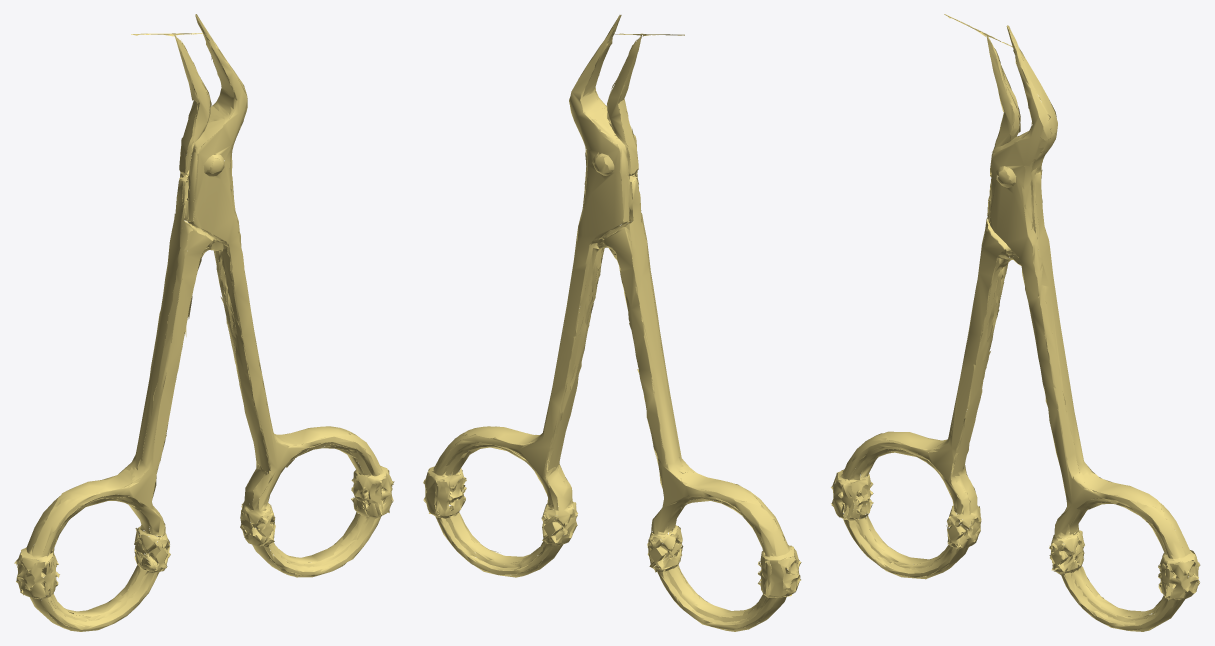
The model's file is equip_neuros_microvascular_need.glb.
3 renders of one model, left to right at view 1: azimuth 30°, elevation 25°; view 2: azimuth 150°, elevation 25°; view 3: azimuth 330°, elevation 25°, orthographic. The views are drawn at different scales.
Parts seen in each view (by area): view 1: world; view 2: world; view 3: world.
Part boxes in pixels (x1,y1,x2,y2): world: (14,14,394,631); world: (423,15,801,631); world: (831,14,1200,631).
Bounding box in the file's own units: 0.0798 × 0.1202 × 0.00933.
